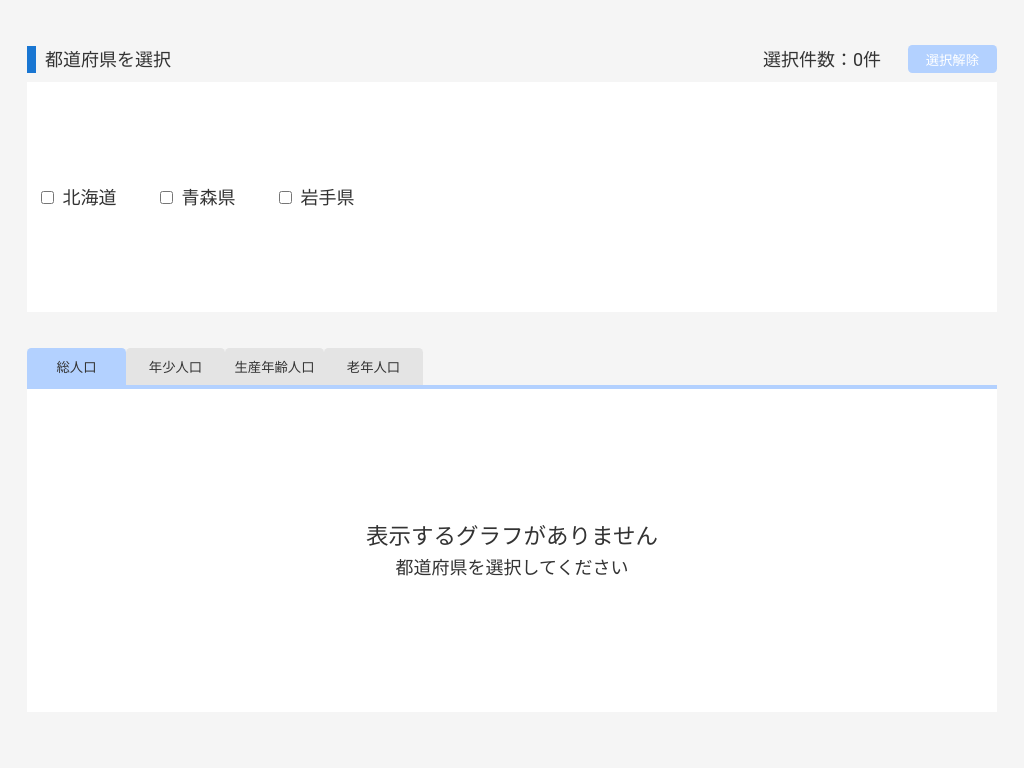
PopulationTrendGraph Component › Checkbox interactions › removes a prefecture when an already checked checkbox is clicked
The width and height of the screenshot is (1024, 768).
Click the checkbox labelled "北海道": [47, 197] box [40, 191, 54, 204]
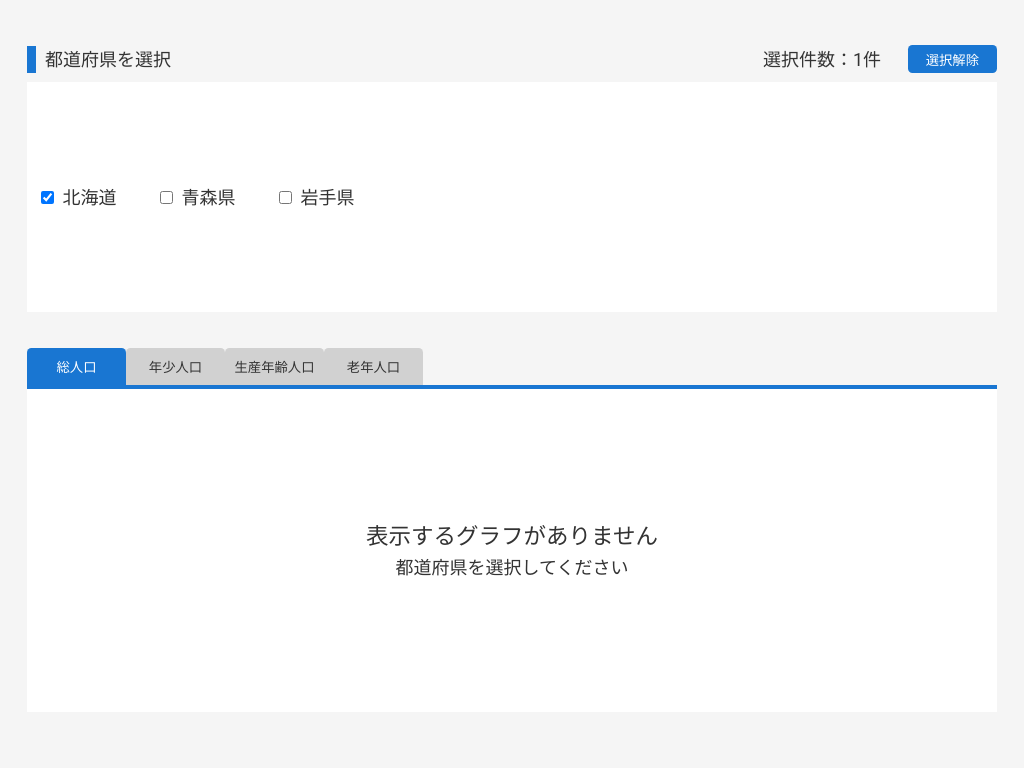
Click the checkbox labelled "北海道": [47, 197] box [40, 191, 54, 204]
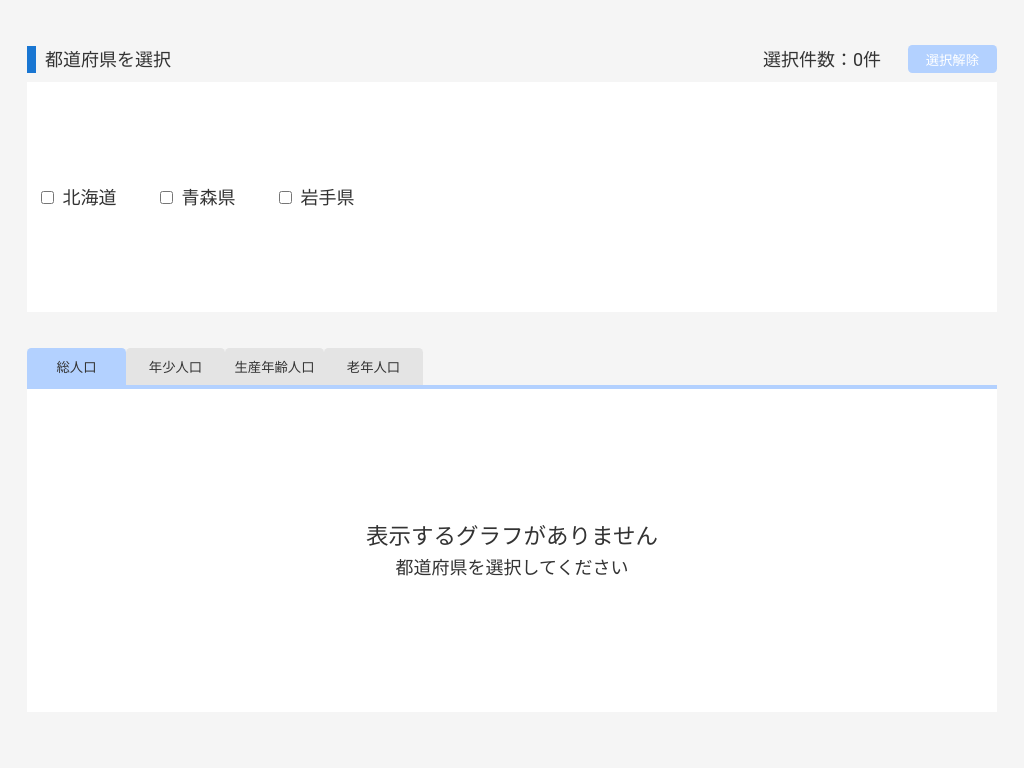
Now the text "選択件数：0件" is shown, box [763, 46, 881, 72]
